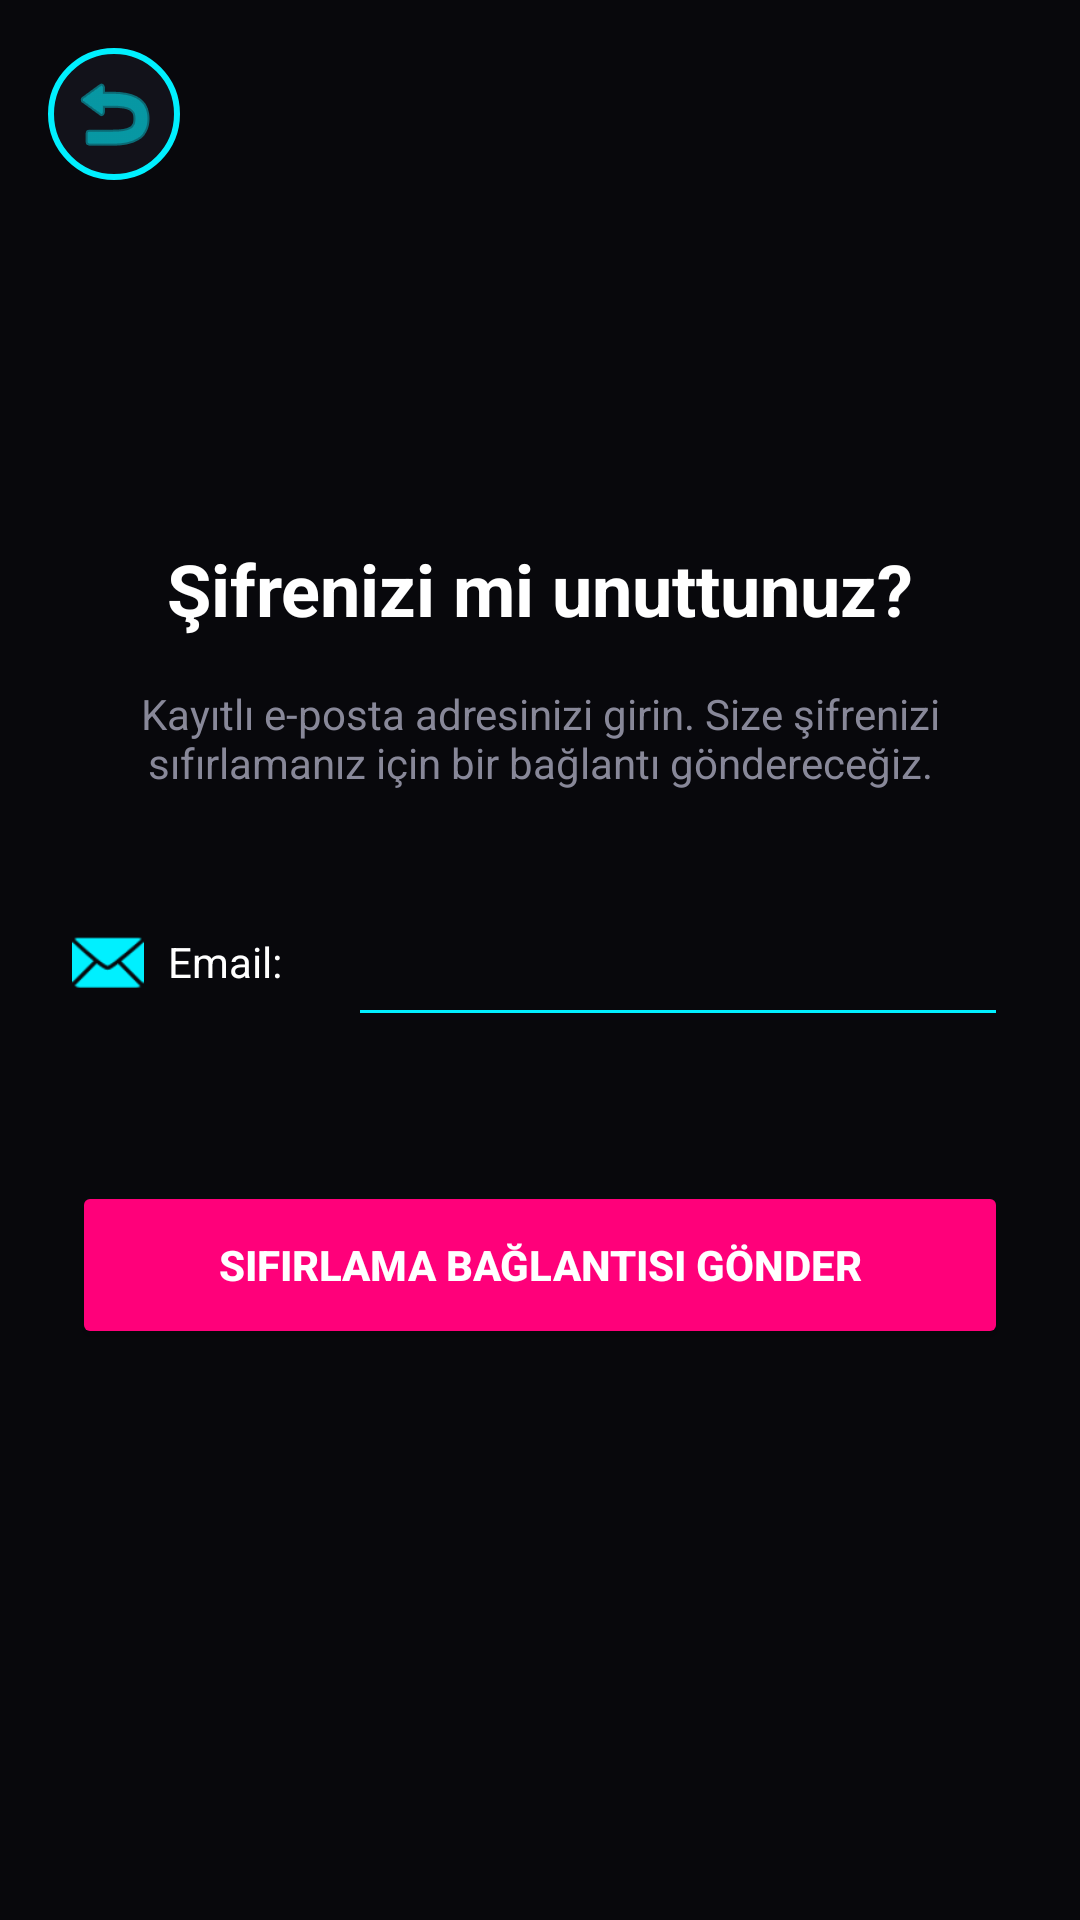

Screen size 1080 × 1920. Icon name, then its box in pixels as (x1, y1, x2, y2):
Geri Dön: (48, 48, 180, 180)
